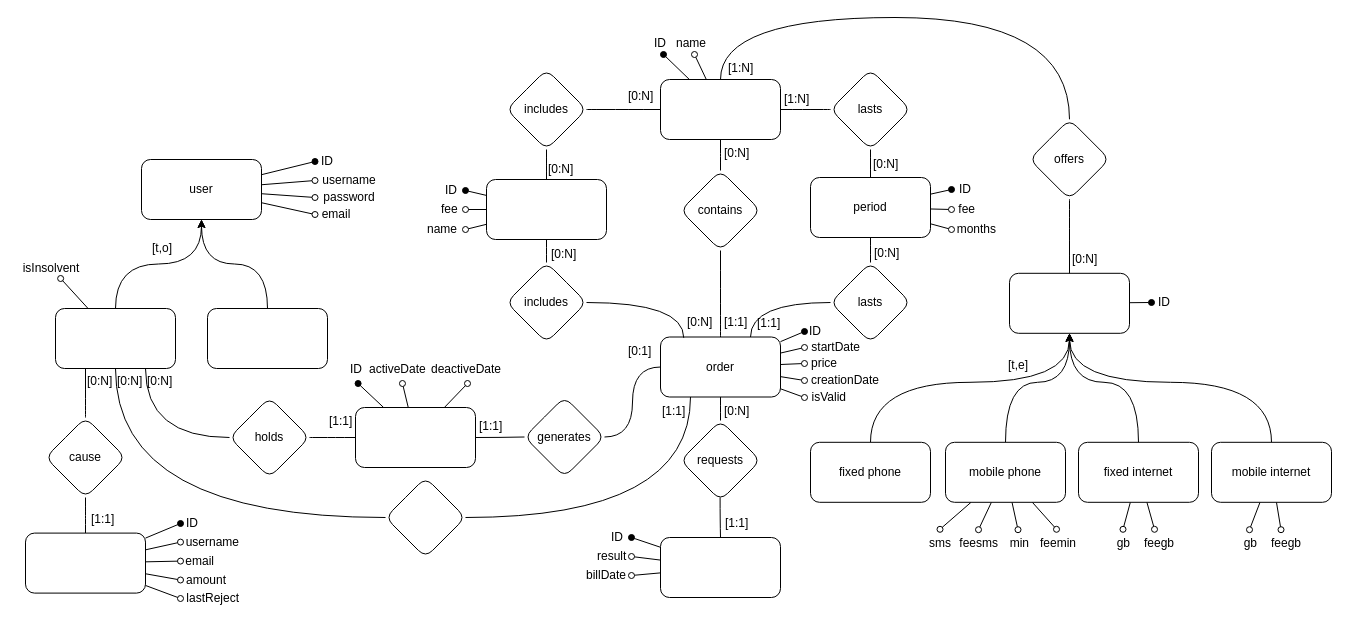
This 1349x630 diagram has some shape labels left out. Here are the shapes that lost their labels. From the top down, the centre of each, then its label:
At [720,109]: "srvpackage".
At [546,209]: "optional".
At [1069,302]: "service".
At [115,338]: "customer".
At [267,338]: "employee".
At [415,437]: "schedule".
At [425,517]: "places".
At [85,562]: "alert".
At [720,567]: "bill".
